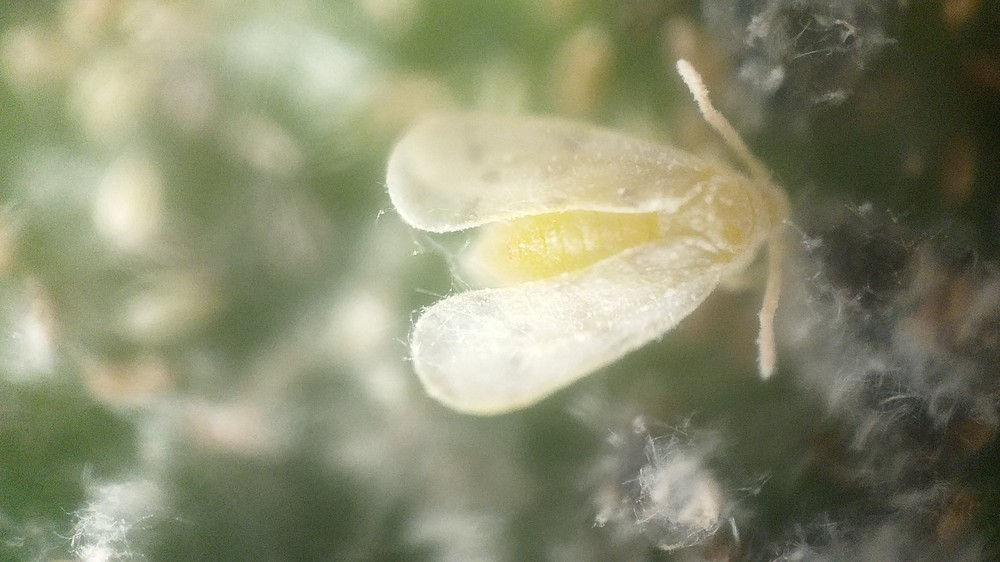Mosca Blanca: (373, 56, 819, 438)
